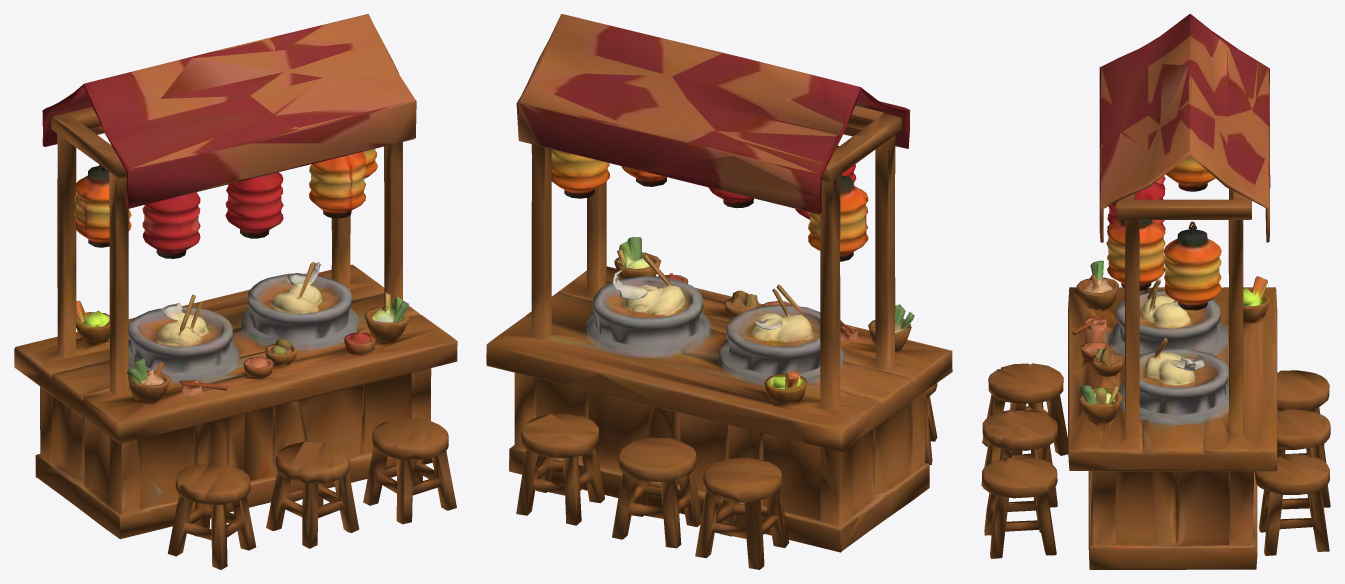
File: prop_lantern_stall.fbx
3 renders of one model, left to right at view 1: azimuth 30°, elevation 25°; view 2: azimuth 150°, elevation 25°; view 3: azimuth 270°, elevation 25°, orthographic. The views are drawn at different scales.
Visible parts, largest first — view 1: tripo_node_ca70bf5a-4d39-407b-8f83-9af805d9469d; view 2: tripo_node_ca70bf5a-4d39-407b-8f83-9af805d9469d; view 3: tripo_node_ca70bf5a-4d39-407b-8f83-9af805d9469d.
Boxes of the visible parts, box(x1,y1,x2,y2) form: tripo_node_ca70bf5a-4d39-407b-8f83-9af805d9469d: box(14, 14, 457, 569); tripo_node_ca70bf5a-4d39-407b-8f83-9af805d9469d: box(486, 14, 952, 569); tripo_node_ca70bf5a-4d39-407b-8f83-9af805d9469d: box(981, 14, 1330, 569).
Size of the model in its own units: 0.8349 by 0.9786 by 0.749.
